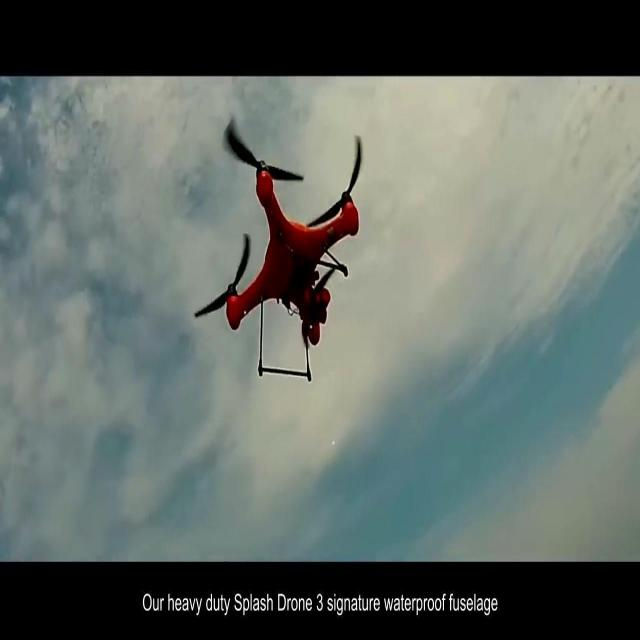UAV: (195, 118, 363, 383)
